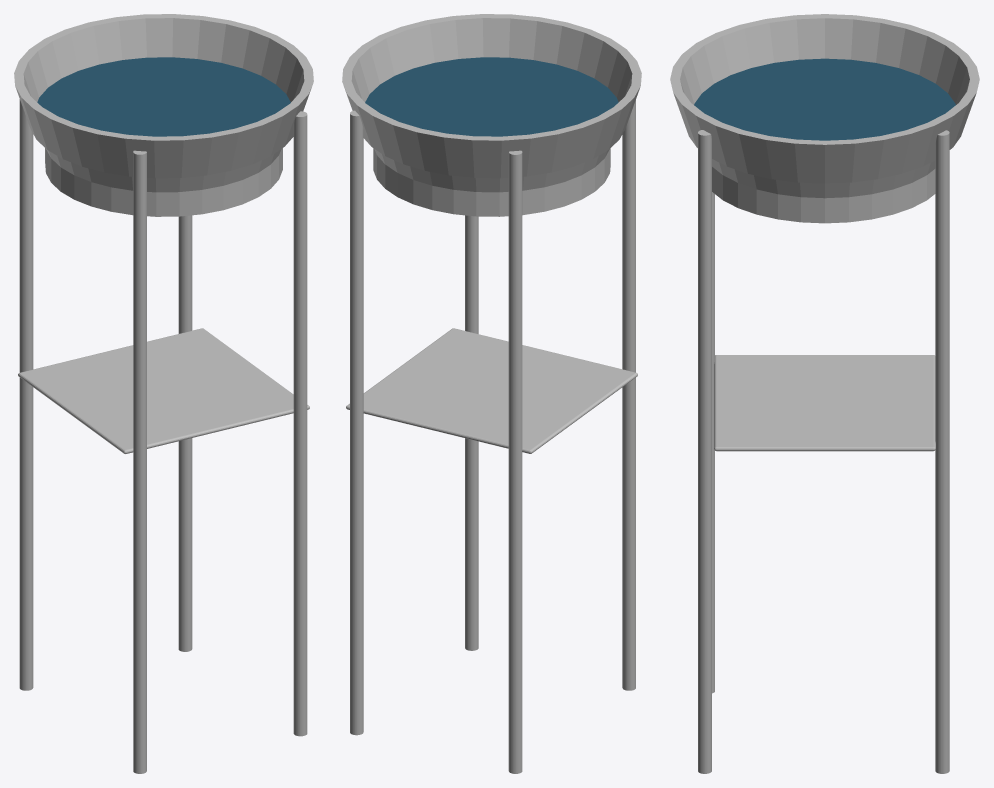
File: water.glb
The picture shows the model from 3 angles, left to right: view 1: azimuth 30°, elevation 25°; view 2: azimuth 150°, elevation 25°; view 3: azimuth 270°, elevation 25°; orthographic projection. The views are drawn at different scales.
Parts seen in each view (by area): view 1: Cylinder, Plane, Cylinder.004, Cylinder.003, Cylinder.002, Cylinder.001; view 2: Cylinder, Plane, Cylinder.002, Cylinder.001, Cylinder.003, Cylinder.004; view 3: Cylinder, Plane, Cylinder.001, Cylinder.004, Cylinder.003.
Part boxes in pixels (bbox=[...]): Cylinder: bbox=[14, 14, 313, 216]; Plane: bbox=[18, 328, 309, 453]; Cylinder.004: bbox=[293, 111, 307, 736]; Cylinder.003: bbox=[133, 150, 146, 773]; Cylinder.002: bbox=[19, 99, 33, 690]; Cylinder.001: bbox=[178, 215, 192, 651]; Cylinder: bbox=[342, 14, 641, 216]; Plane: bbox=[346, 328, 637, 453]; Cylinder.002: bbox=[508, 150, 522, 773]; Cylinder.001: bbox=[350, 110, 363, 735]; Cylinder.003: bbox=[622, 100, 635, 690]; Cylinder.004: bbox=[465, 215, 478, 650]; Cylinder: bbox=[670, 14, 979, 223]; Plane: bbox=[714, 355, 935, 451]; Cylinder.001: bbox=[935, 130, 949, 773]; Cylinder.004: bbox=[698, 130, 711, 773]; Cylinder.003: bbox=[712, 192, 714, 693].
Size of the model in its own units: 0.6597 by 1.53 by 0.6597.
